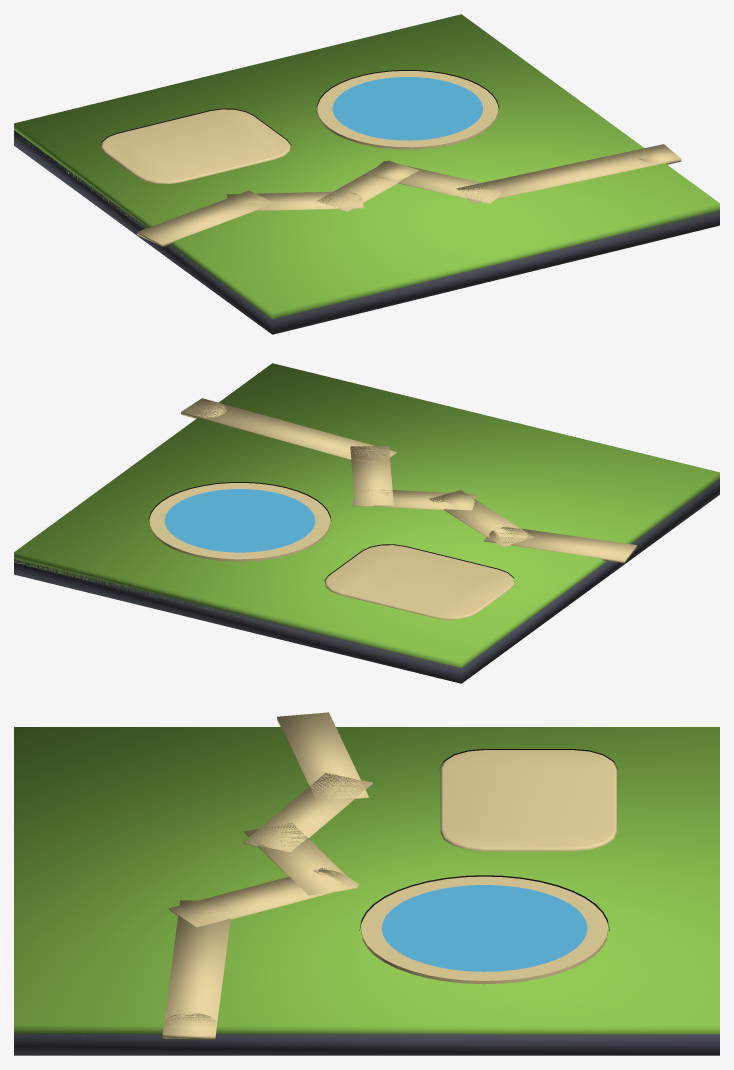
The model's file is Lot_Park.fbx.
The picture shows the model from 3 angles, top to bottom: view 1: azimuth 30°, elevation 25°; view 2: azimuth 150°, elevation 25°; view 3: azimuth 270°, elevation 25°; orthographic projection. The views are drawn at different scales.
Visible parts, largest first — view 1: Tile_Lot_Park_Grass, Tile_Lot_Park_Sand, Tile_Lot_Park_Asphalt, Tile_Lot_Park_Water, Tile_Lot_Park_Outline; view 2: Tile_Lot_Park_Grass, Tile_Lot_Park_Sand, Tile_Lot_Park_Asphalt, Tile_Lot_Park_Water, Tile_Lot_Park_Outline; view 3: Tile_Lot_Park_Grass, Tile_Lot_Park_Sand, Tile_Lot_Park_Asphalt, Tile_Lot_Park_Water, Tile_Lot_Park_Outline.
Part boxes in pixels (x1,y1,x2,y2): Tile_Lot_Park_Grass: [14, 14, 719, 319]; Tile_Lot_Park_Sand: [101, 71, 681, 246]; Tile_Lot_Park_Asphalt: [14, 130, 719, 334]; Tile_Lot_Park_Water: [332, 77, 482, 140]; Tile_Lot_Park_Outline: [101, 70, 499, 145]; Tile_Lot_Park_Grass: [14, 363, 719, 670]; Tile_Lot_Park_Sand: [149, 398, 636, 619]; Tile_Lot_Park_Asphalt: [14, 479, 719, 683]; Tile_Lot_Park_Water: [164, 489, 315, 552]; Tile_Lot_Park_Outline: [148, 482, 514, 580]; Tile_Lot_Park_Grass: [14, 727, 719, 1039]; Tile_Lot_Park_Sand: [162, 712, 616, 1039]; Tile_Lot_Park_Asphalt: [14, 1034, 719, 1055]; Tile_Lot_Park_Water: [381, 885, 587, 971]; Tile_Lot_Park_Outline: [359, 749, 617, 930].
Size of the model in its own units: 26.01 by 1.29 by 24.
